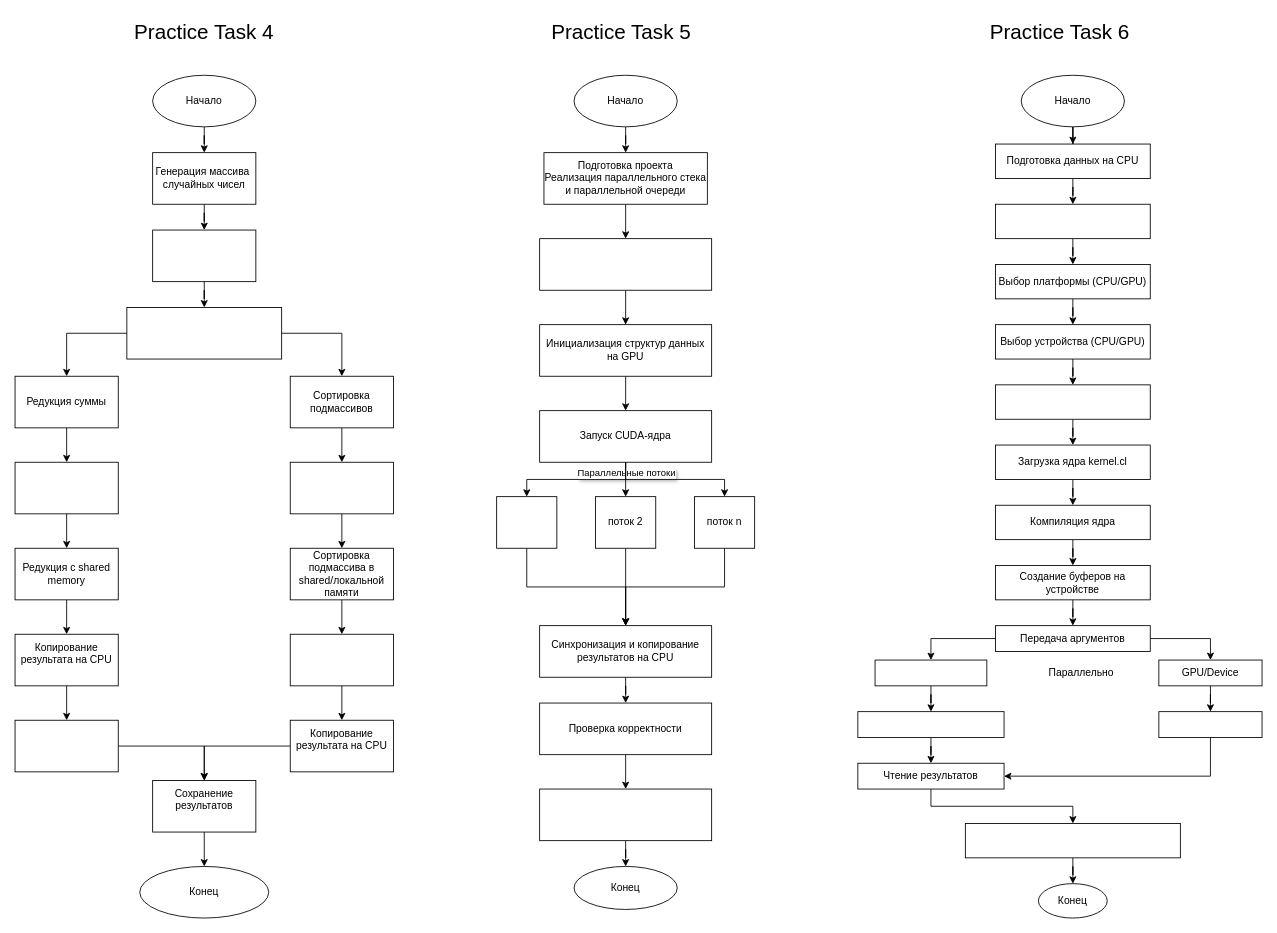
Image size: 1277x933. Some labels were removed from this diagram. Each missing label, with the centre of its shape:
"CPU (Host)" belongs at (930,672).
"Выбор алгоритма:Редукция или Сортировка" belongs at (204,333).
"Вывод результатов Время выполнения" belongs at (1072,840).
"Выделение памяти на GPU" belongs at (625,264).
"Выполнение ядра" belongs at (1210,724).
"Загрузка OpenCL библиотеки" belongs at (1072,221).
"Замер времени" belongs at (66,745).
"Измерение времени начало" belongs at (930,724).
"Копирование данных на GPU (глобальная)" belongs at (204,255).
"поток 1" belongs at (526,522).
"Разделение массива на подмассивы" belongs at (341,487).
"Редукция с глобальной памятью" belongs at (66,487).
"Слияние отсортированных подмассивов" belongs at (341,659).
"Создание контекста и очереди" belongs at (1072,401).
"Сравнение производительности" belongs at (625,814).
